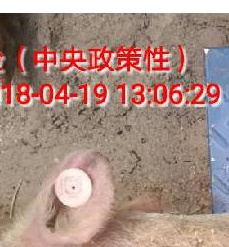text: (49, 160, 99, 214)
